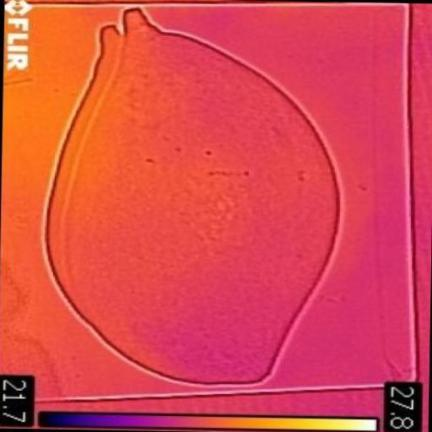mango: (47, 10, 339, 383)
